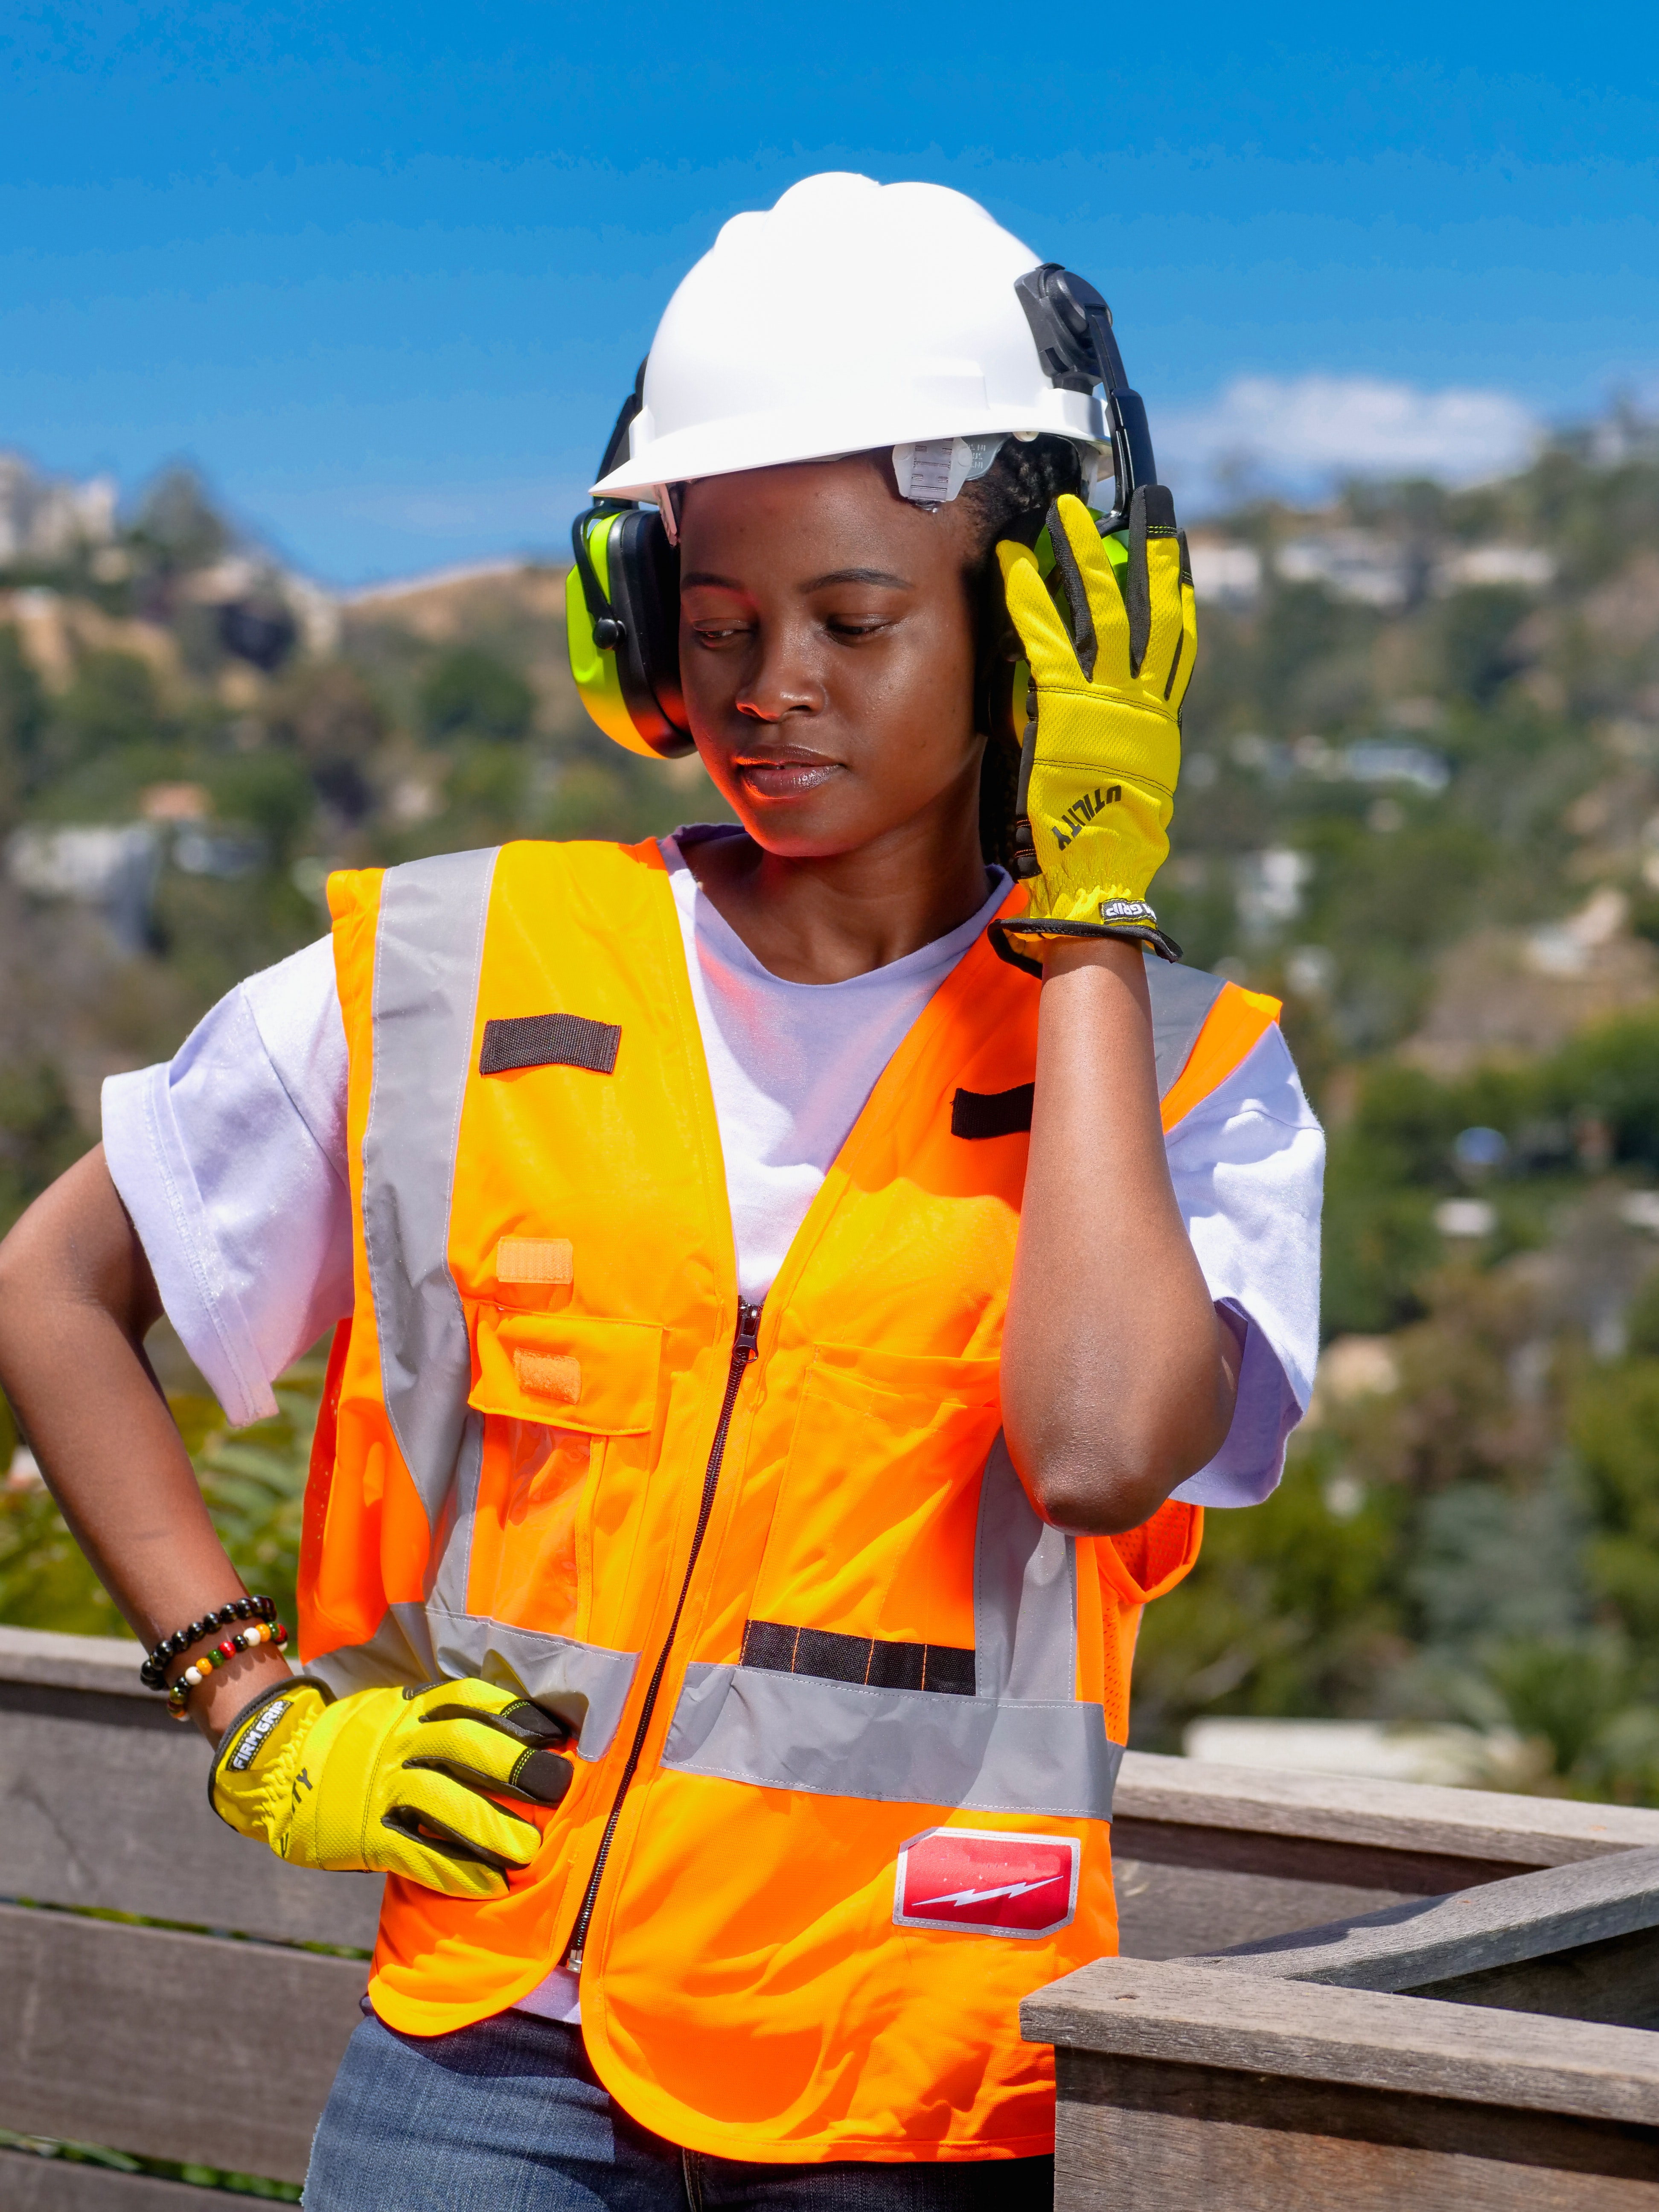Helmet: (591, 146, 1180, 937)
Reflective vest: (298, 813, 1286, 2168)
